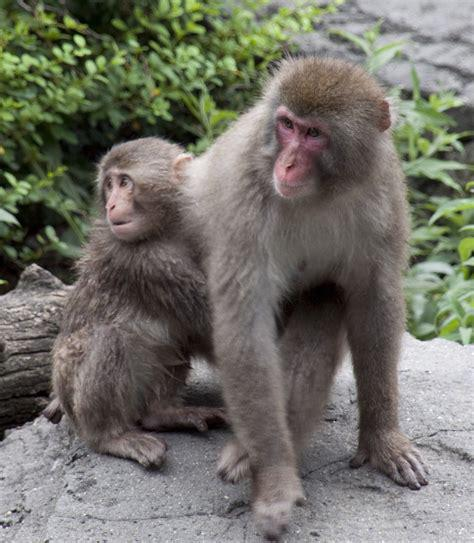monkey: (190, 57, 429, 534), (45, 139, 224, 469)
